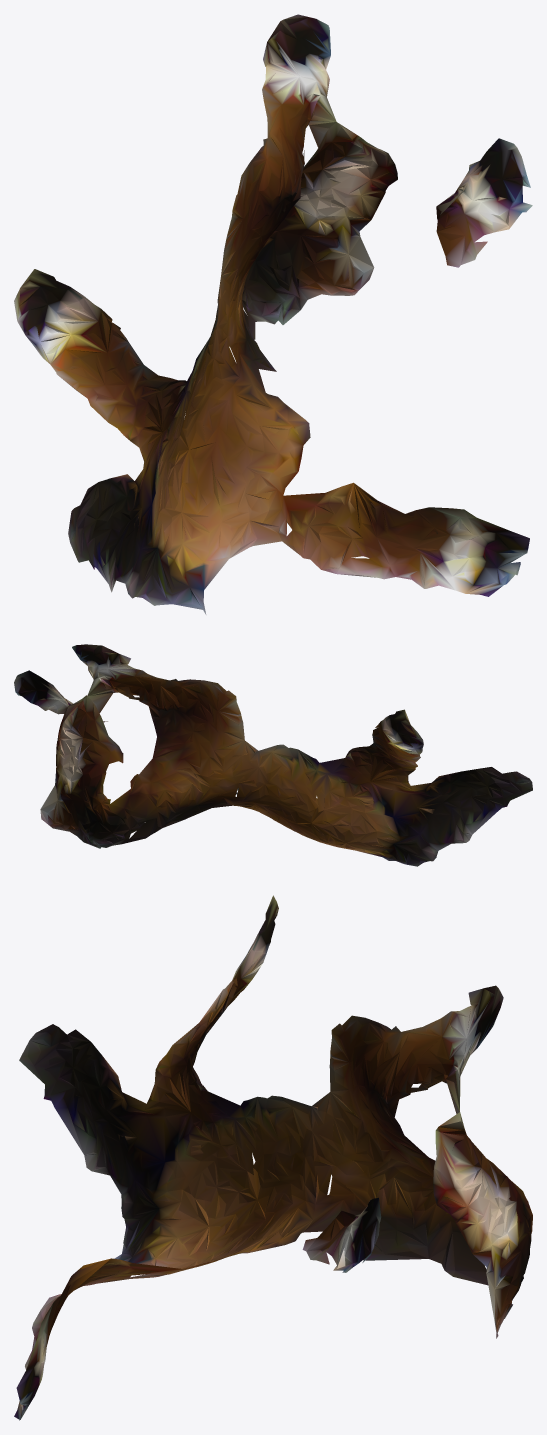
The model's file is CapturedHorse.dae.
3 views of the same model, one above another, from view 1: azimuth 30°, elevation 25°; view 2: azimuth 150°, elevation 25°; view 3: azimuth 270°, elevation 25° (orthographic). The views are drawn at different scales.
Visible parts, largest first — view 1: CapturedObject-node; view 2: CapturedObject-node; view 3: CapturedObject-node.
Boxes of the visible parts, x1,y1,x2,y2 form: CapturedObject-node: (14, 14, 532, 614); CapturedObject-node: (14, 644, 532, 866); CapturedObject-node: (14, 895, 532, 1420).
Bounding box in the file's own units: 0.5692 × 0.3605 × 0.3862.
